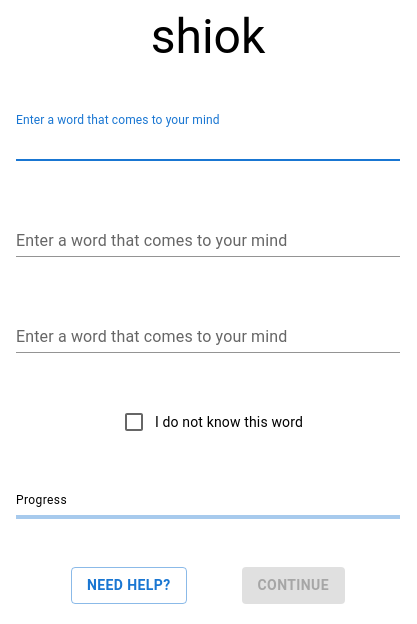
it: QuizPage › updates the progress indicator when moving to the next cue
The image size is (417, 624).
In the 1st field labelled "Enter a word that comes to your mind": (208, 145) [16, 129, 400, 161], type "kopi"
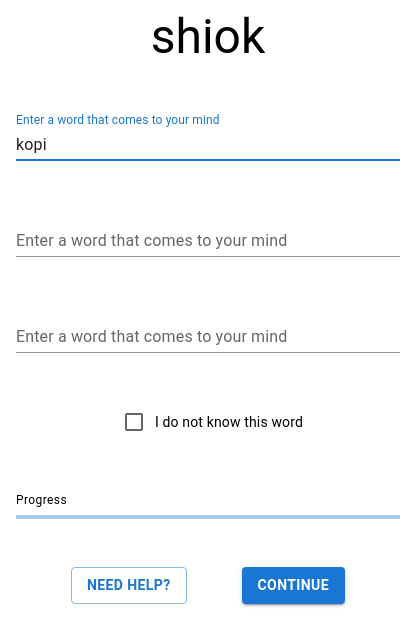
Click the button "continue": click(293, 585) [242, 567, 345, 604]
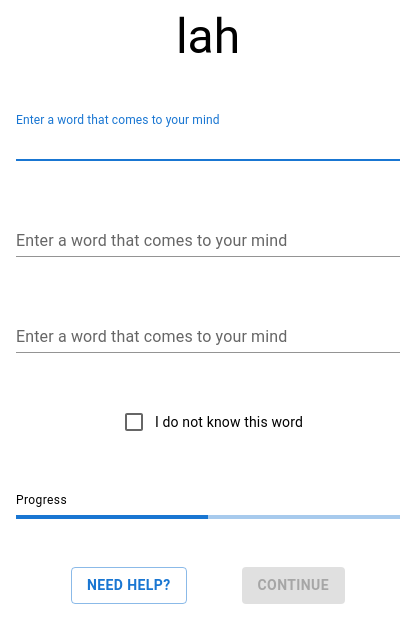
Check: the progress indicator has attribute aria-valuenow="50", box [16, 515, 400, 519]
